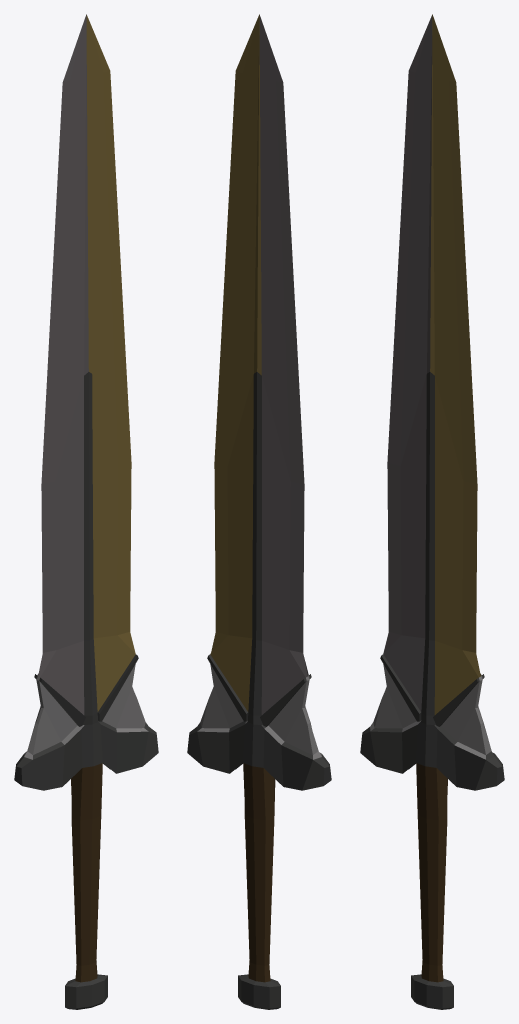
The model's file is rune-sword.glb.
The picture shows the model from 3 angles, left to right: view 1: azimuth 30°, elevation 25°; view 2: azimuth 150°, elevation 25°; view 3: azimuth 330°, elevation 25°; orthographic projection.
Parts seen in each view (by area): view 1: Rune Sword - low-poly-swords-asset-2; view 2: Rune Sword - low-poly-swords-asset-2; view 3: Rune Sword - low-poly-swords-asset-2.
Part boxes in pixels (bbox=[...]): Rune Sword - low-poly-swords-asset-2: bbox=[14, 14, 158, 1009]; Rune Sword - low-poly-swords-asset-2: bbox=[187, 14, 331, 1009]; Rune Sword - low-poly-swords-asset-2: bbox=[360, 14, 504, 1009].
Size of the model in its own units: 0.1655 by 1.12 by 0.0299.
